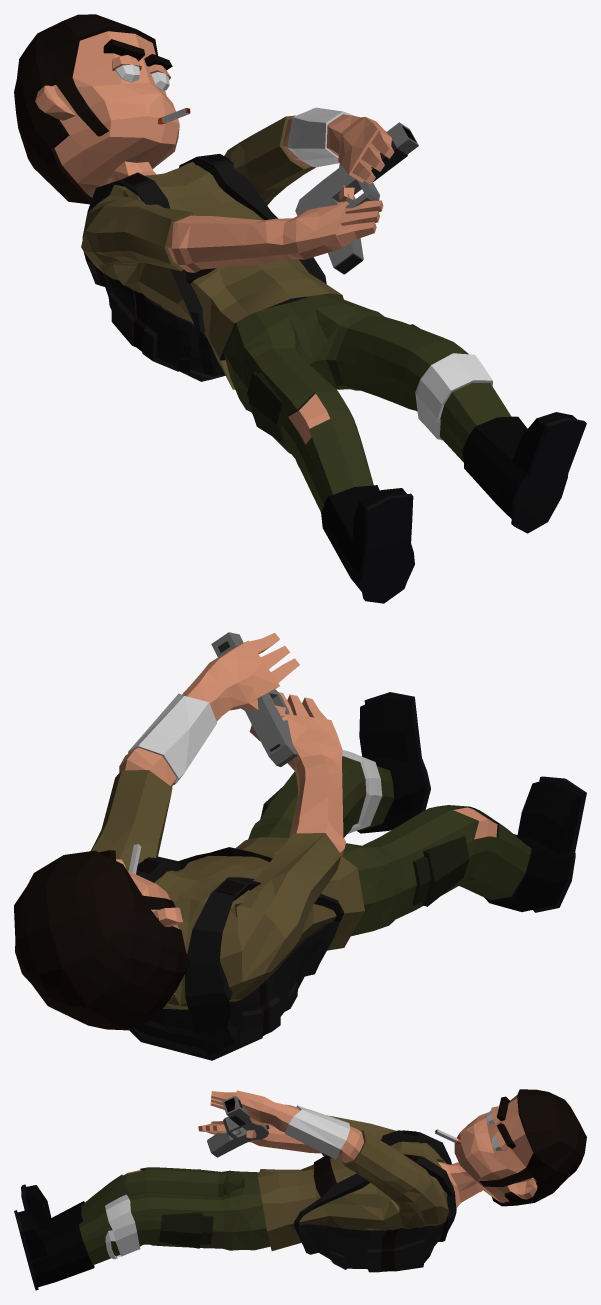
The model's file is frame_0069.obj.
3 views of the same model, one above another, from view 1: azimuth 30°, elevation 25°; view 2: azimuth 150°, elevation 25°; view 3: azimuth 270°, elevation 25° (orthographic). The views are drawn at different scales.
Visible parts, largest first — view 1: Body, Gun; view 2: Body, Gun; view 3: Body, Gun.
Boxes of the visible parts, x1,y1,x2,y2 form: Body: (14, 14, 586, 603); Gun: (295, 122, 418, 274); Body: (14, 633, 586, 1060); Gun: (211, 632, 297, 766); Body: (14, 1089, 586, 1290); Gun: (207, 1095, 269, 1157).
Bounding box in the file's own units: 1.22 × 1.82 × 4.16.
